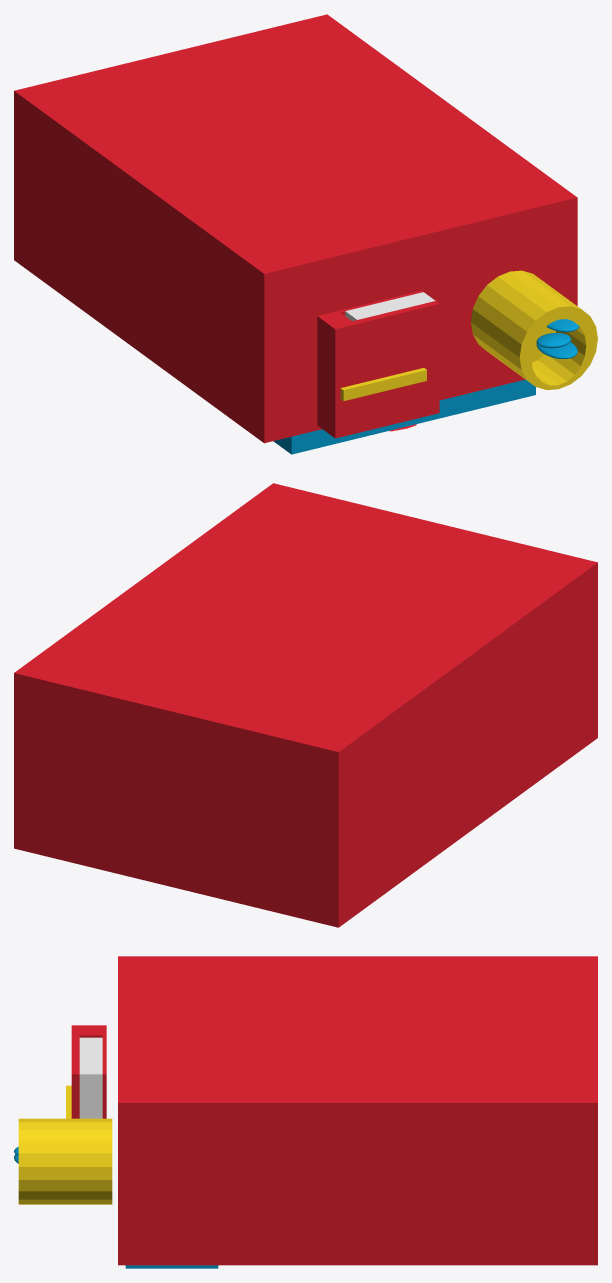
File: tinker.obj
3 views of the same model, one above another, from view 1: azimuth 30°, elevation 25°; view 2: azimuth 150°, elevation 25°; view 3: azimuth 270°, elevation 25° (orthographic). The views are drawn at different scales.
Parts seen in each view (by area): view 1: group_0_15277357, group_0_16768282, group_0_40919, group_0_16448250; view 2: group_0_15277357; view 3: group_0_15277357, group_0_16768282, group_0_16448250, group_0_40919.
Part boxes in pixels (bbox=[...]): group_0_15277357: bbox=[14, 14, 577, 443]; group_0_16768282: bbox=[340, 270, 597, 401]; group_0_40919: bbox=[273, 319, 579, 454]; group_0_16448250: bbox=[345, 292, 435, 321]; group_0_15277357: bbox=[14, 483, 597, 927]; group_0_15277357: bbox=[71, 956, 597, 1265]; group_0_16768282: bbox=[18, 1085, 112, 1204]; group_0_16448250: bbox=[79, 1037, 102, 1118]; group_0_40919: bbox=[14, 1147, 218, 1268].
Bounding box in the file's own units: 60 × 39 × 101.
